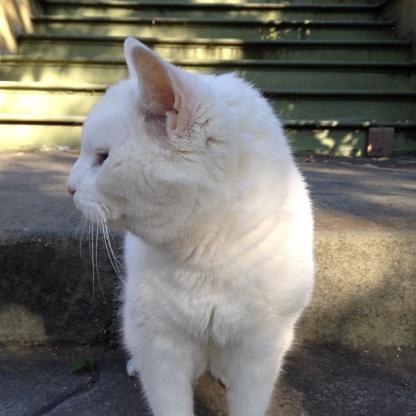Target: (64, 34, 323, 416)
